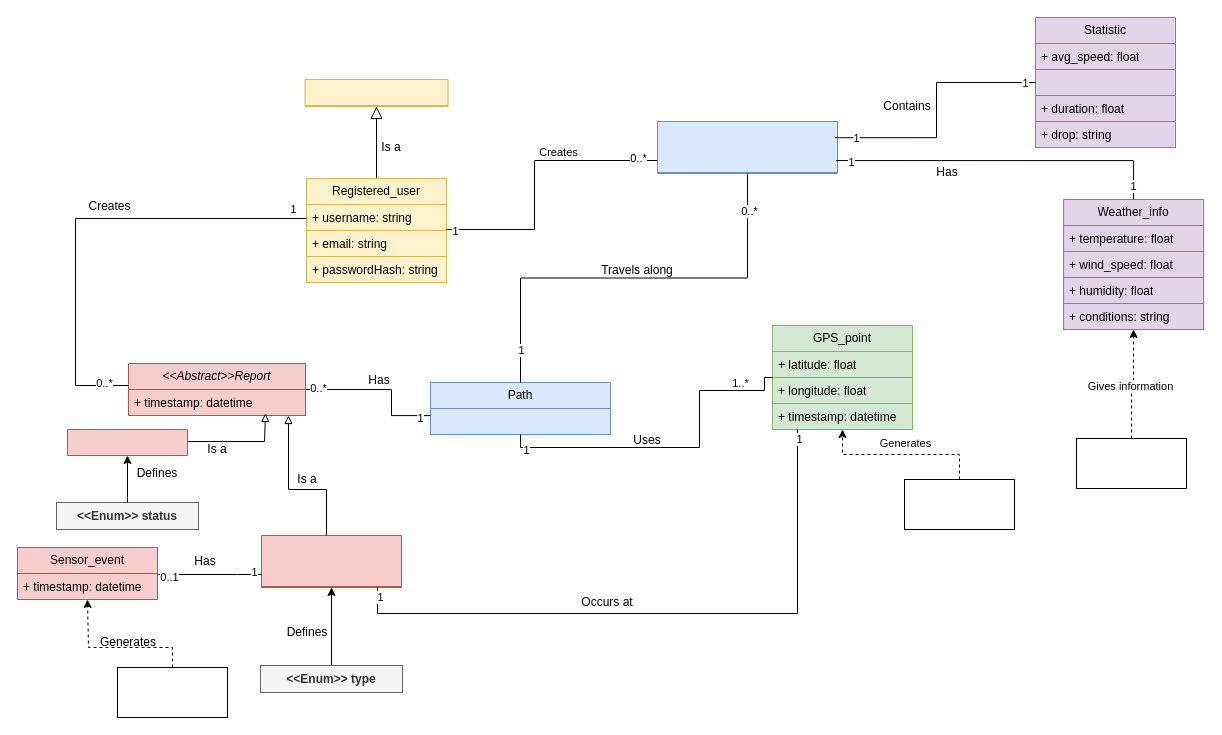
The diagram is 1222 pixels wide and 735 high, and some of its shapes have lost their labels. The shapes that lost their labels are listed below. From the top down, each one's centre as x and y in pixels, then its label:
the point at 376,92: User
the point at 1105,82: + distance: float
the point at 747,147: Trip
the point at 520,421: + Description: string
the point at 127,442: Status_report
the point at 1131,463: External weather service
the point at 959,504: GPS system
the point at 331,561: Obstacle_report
the point at 172,692: Gyroscope & accelerometer
